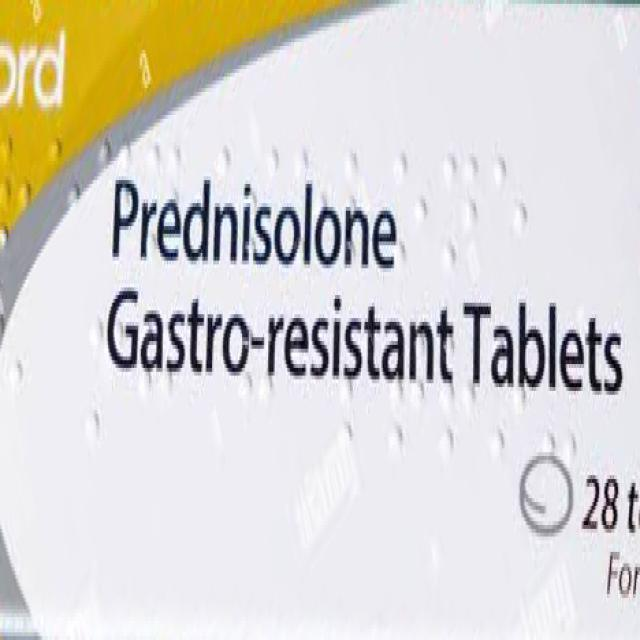drug-name: (110, 170, 400, 286)
